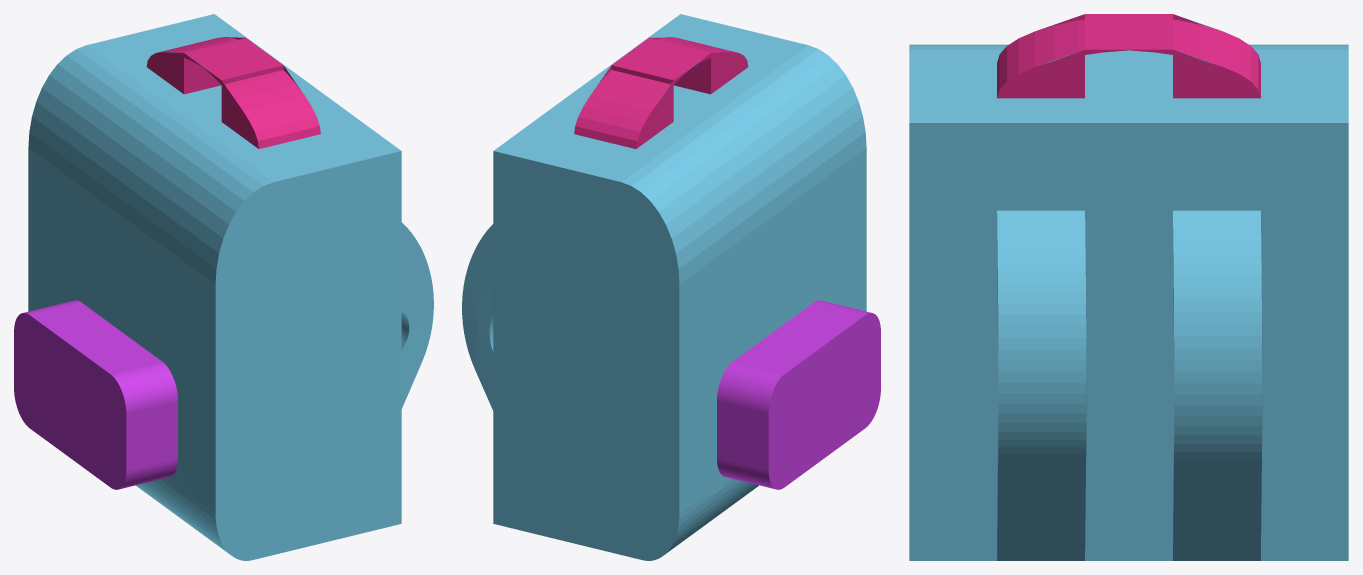
Rendered from Mochila.fbx.
3 views of the same model, side by side, from view 1: azimuth 30°, elevation 25°; view 2: azimuth 150°, elevation 25°; view 3: azimuth 270°, elevation 25° (orthographic). The views are drawn at different scales.
Visible parts, largest first — view 1: Cube; view 2: Cube; view 3: Cube.
Boxes of the visible parts, x1=… form: Cube: x1=14, y1=14, x2=433, y2=560; Cube: x1=462, y1=14, x2=880, y2=560; Cube: x1=909, y1=14, x2=1348, y2=560.
Size of the model in its own units: 229 by 294 by 240.
